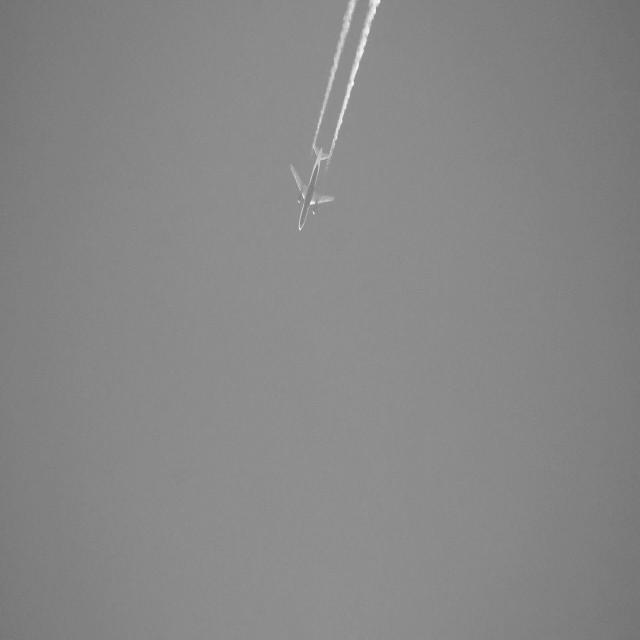aeroplane: (286, 136, 341, 237)
